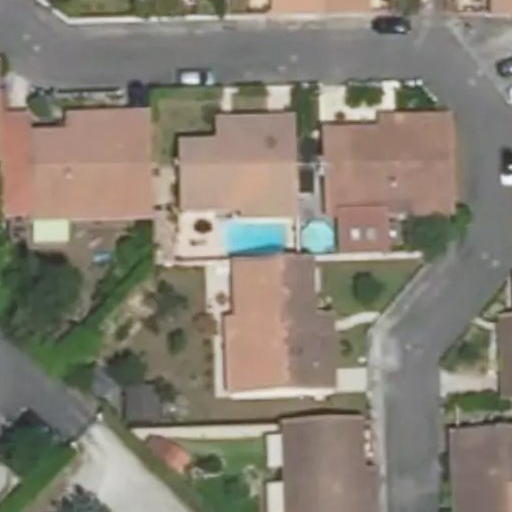pool: (224, 222, 285, 251), (302, 221, 335, 252)
